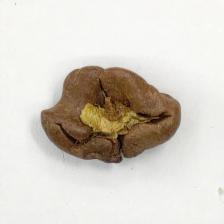NG: (38, 64, 183, 165)
